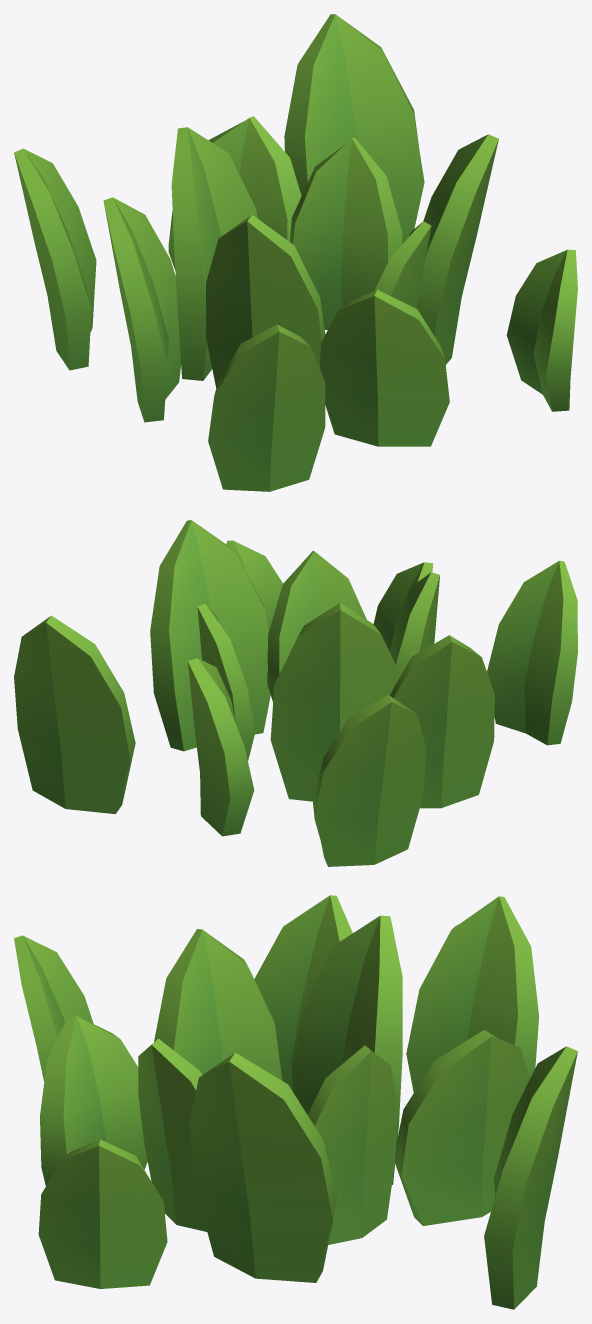
File: Grass_1_D_Color1.gltf
The picture shows the model from 3 angles, top to bottom: view 1: azimuth 30°, elevation 25°; view 2: azimuth 150°, elevation 25°; view 3: azimuth 270°, elevation 25°; orthographic projection. The views are drawn at different scales.
Parts seen in each view (by area): view 1: Grass_1_D_Color1; view 2: Grass_1_D_Color1; view 3: Grass_1_D_Color1.
Boxes of the visible parts, box(x1,y1,x2,y2) form: Grass_1_D_Color1: box(14, 14, 577, 491); Grass_1_D_Color1: box(14, 520, 577, 866); Grass_1_D_Color1: box(14, 895, 577, 1309).
Size of the model in its own units: 1.08 by 0.5885 by 1.18.
Materials: 1 (1 with a texture image).
